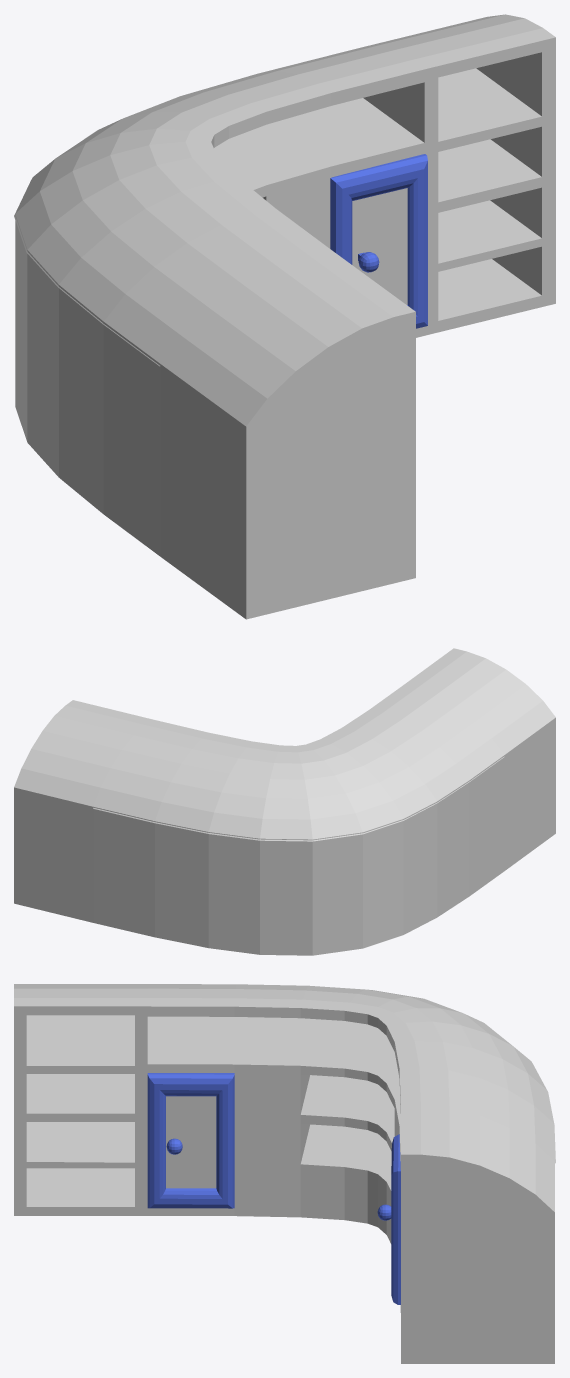
Rendered from balcao_esquina.fbx.
The picture shows the model from 3 angles, top to bottom: view 1: azimuth 30°, elevation 25°; view 2: azimuth 150°, elevation 25°; view 3: azimuth 270°, elevation 25°; orthographic projection. The views are drawn at different scales.
Parts seen in each view (by area): view 1: balcao00.001, porta_balcao.001; view 2: balcao00.001; view 3: balcao00.001, porta_balcao, porta_balcao.001.
Boxes of the visible parts, x1,y1,x2,y2 form: balcao00.001: (14,14,555,619); porta_balcao.001: (330,154,427,328); balcao00.001: (14,648,555,955); balcao00.001: (14,984,555,1363); porta_balcao: (147,1073,234,1208); porta_balcao.001: (377,1134,400,1304).
Size of the model in its own units: 6.56 by 3 by 7.04.
